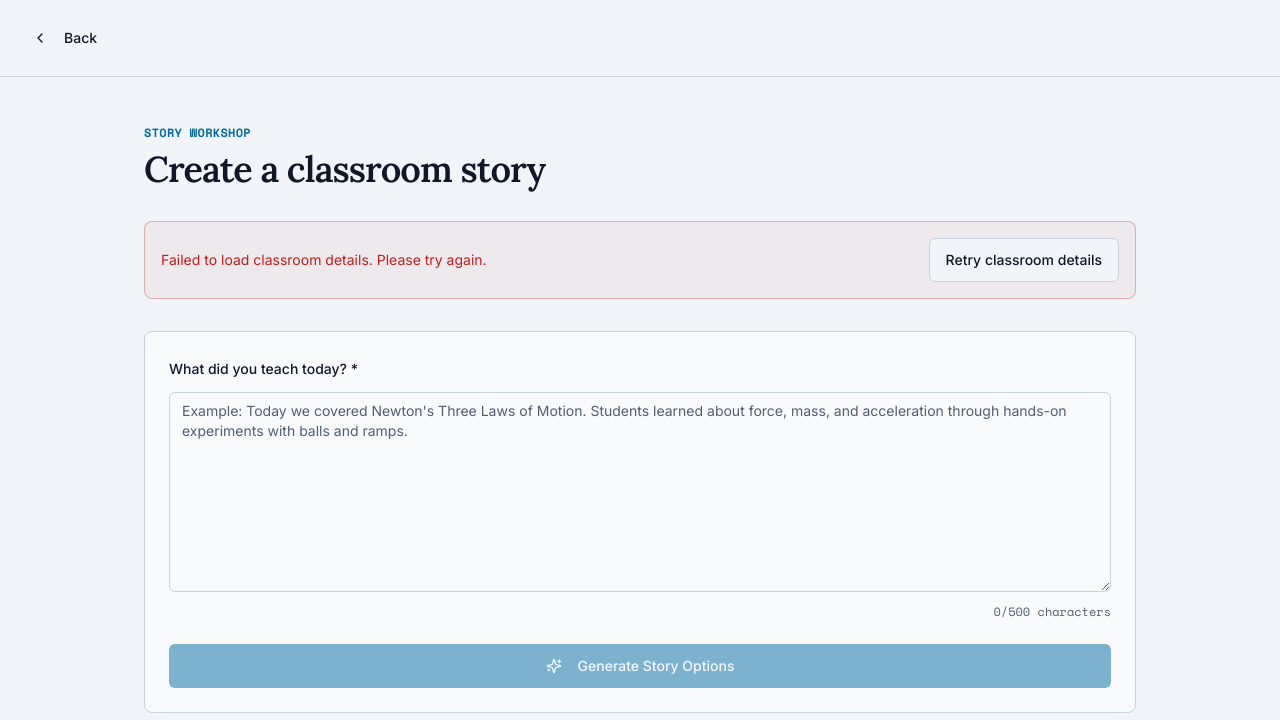
Test: StoryGenerator › keeps a failed classroom metadata load visible and retries it
This screenshot has width=1280, height=720.
Expected: the message shows "Failed to load classroom details", top-left (161, 251), bottom-right (487, 268)
Click the button "Retry classroom details": (1024, 260) top-left (929, 238), bottom-right (1119, 282)
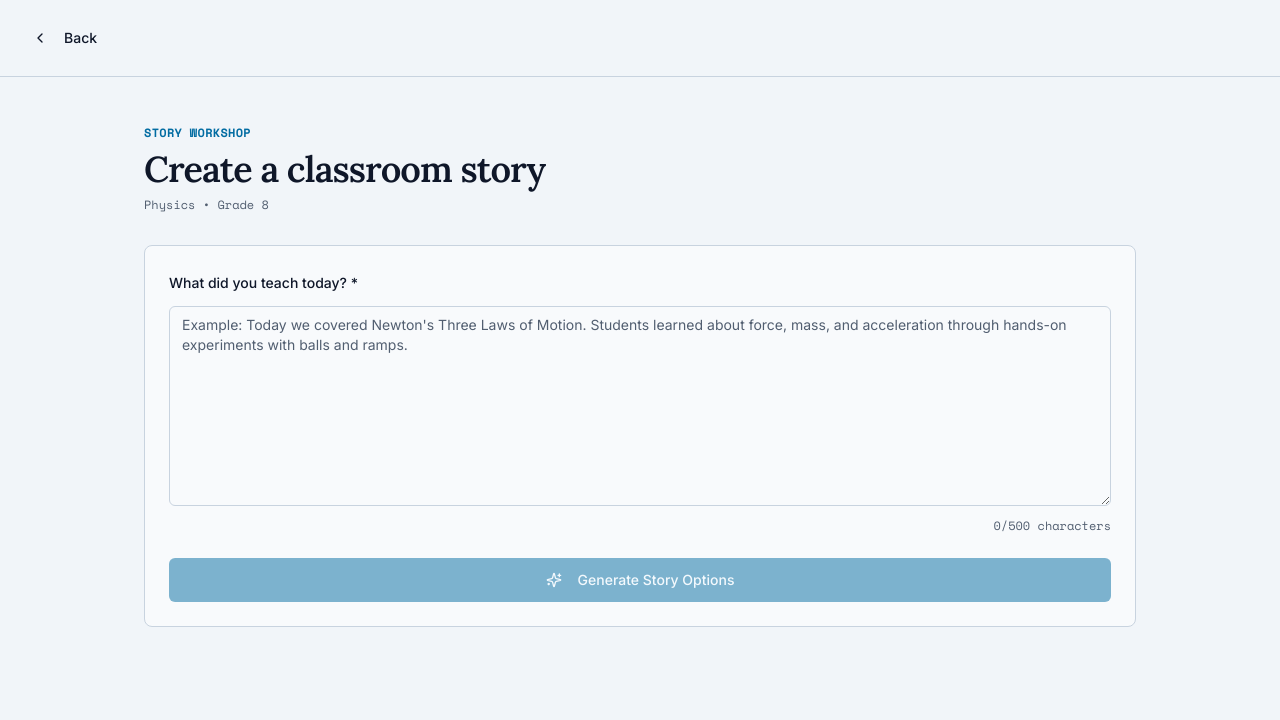
Expected: the text "Physics • Grade 8" is shown, top-left (144, 196), bottom-right (269, 213)
Expected: the message "Failed to load classroom details. Please try again." is gone
